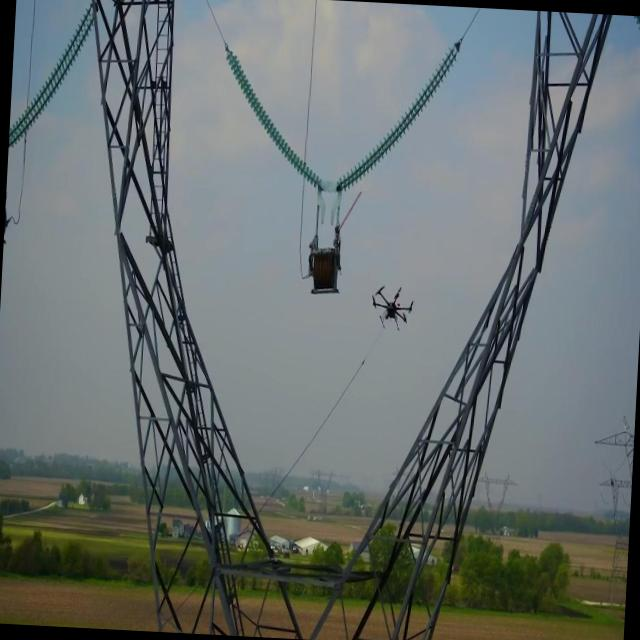drone: (369, 284, 416, 334)
